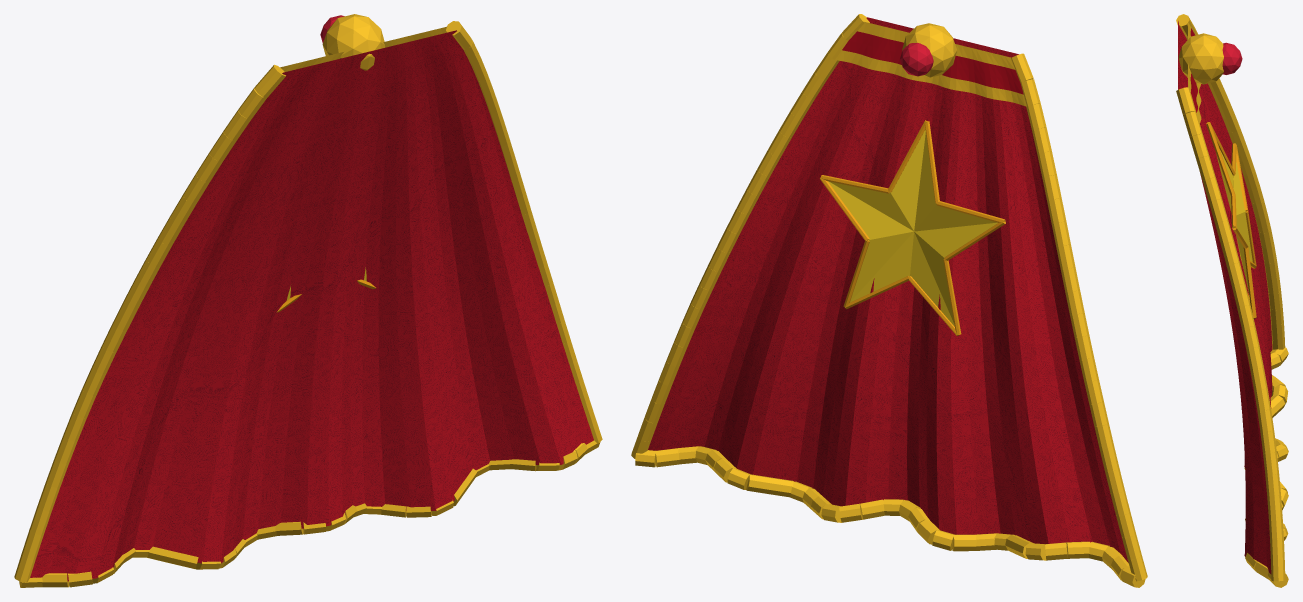
The model's file is Vietnam_Flag_Cape_Unity.obj.
3 renders of one model, left to right at view 1: azimuth 30°, elevation 25°; view 2: azimuth 150°, elevation 25°; view 3: azimuth 270°, elevation 25°, orthographic. The views are drawn at different scales.
Visible parts, largest first — view 1: cape_part_0, cape_part_1, cape_part_219; view 2: cape_part_0, cape_part_1, cape_part_208, cape_part_219, cape_part_220; view 3: cape_part_0, cape_part_1, cape_part_219, cape_part_208, cape_part_220, cape_part_218, cape_part_215, cape_part_25, cape_part_26, cape_part_27, cape_part_28, cape_part_29 (+42 smaller).
Boxes of the visible parts, <box> form: cape_part_0: <box>30,30,593,581</box>; cape_part_1: <box>31,31,593,577</box>; cape_part_219: <box>322,14,385,70</box>; cape_part_0: <box>648,17,1128,562</box>; cape_part_1: <box>649,19,1127,560</box>; cape_part_208: <box>828,129,997,326</box>; cape_part_219: <box>902,23,956,77</box>; cape_part_220: <box>900,42,933,76</box>; cape_part_0: <box>1178,21,1272,574</box>; cape_part_1: <box>1178,30,1272,571</box>; cape_part_219: <box>1178,33,1223,84</box>; cape_part_208: <box>1216,150,1252,292</box>; cape_part_220: <box>1222,42,1242,74</box>; cape_part_218: <box>1206,123,1235,195</box>; cape_part_215: <box>1243,247,1256,317</box>; cape_part_25: <box>1176,87,1195,114</box>; cape_part_26: <box>1183,111,1202,137</box>; cape_part_27: <box>1189,133,1208,158</box>; cape_part_28: <box>1196,155,1215,180</box>; cape_part_29: <box>1202,177,1221,201</box>.
Size of the model in its own units: 1.82 by 1.63 by 0.3716.
